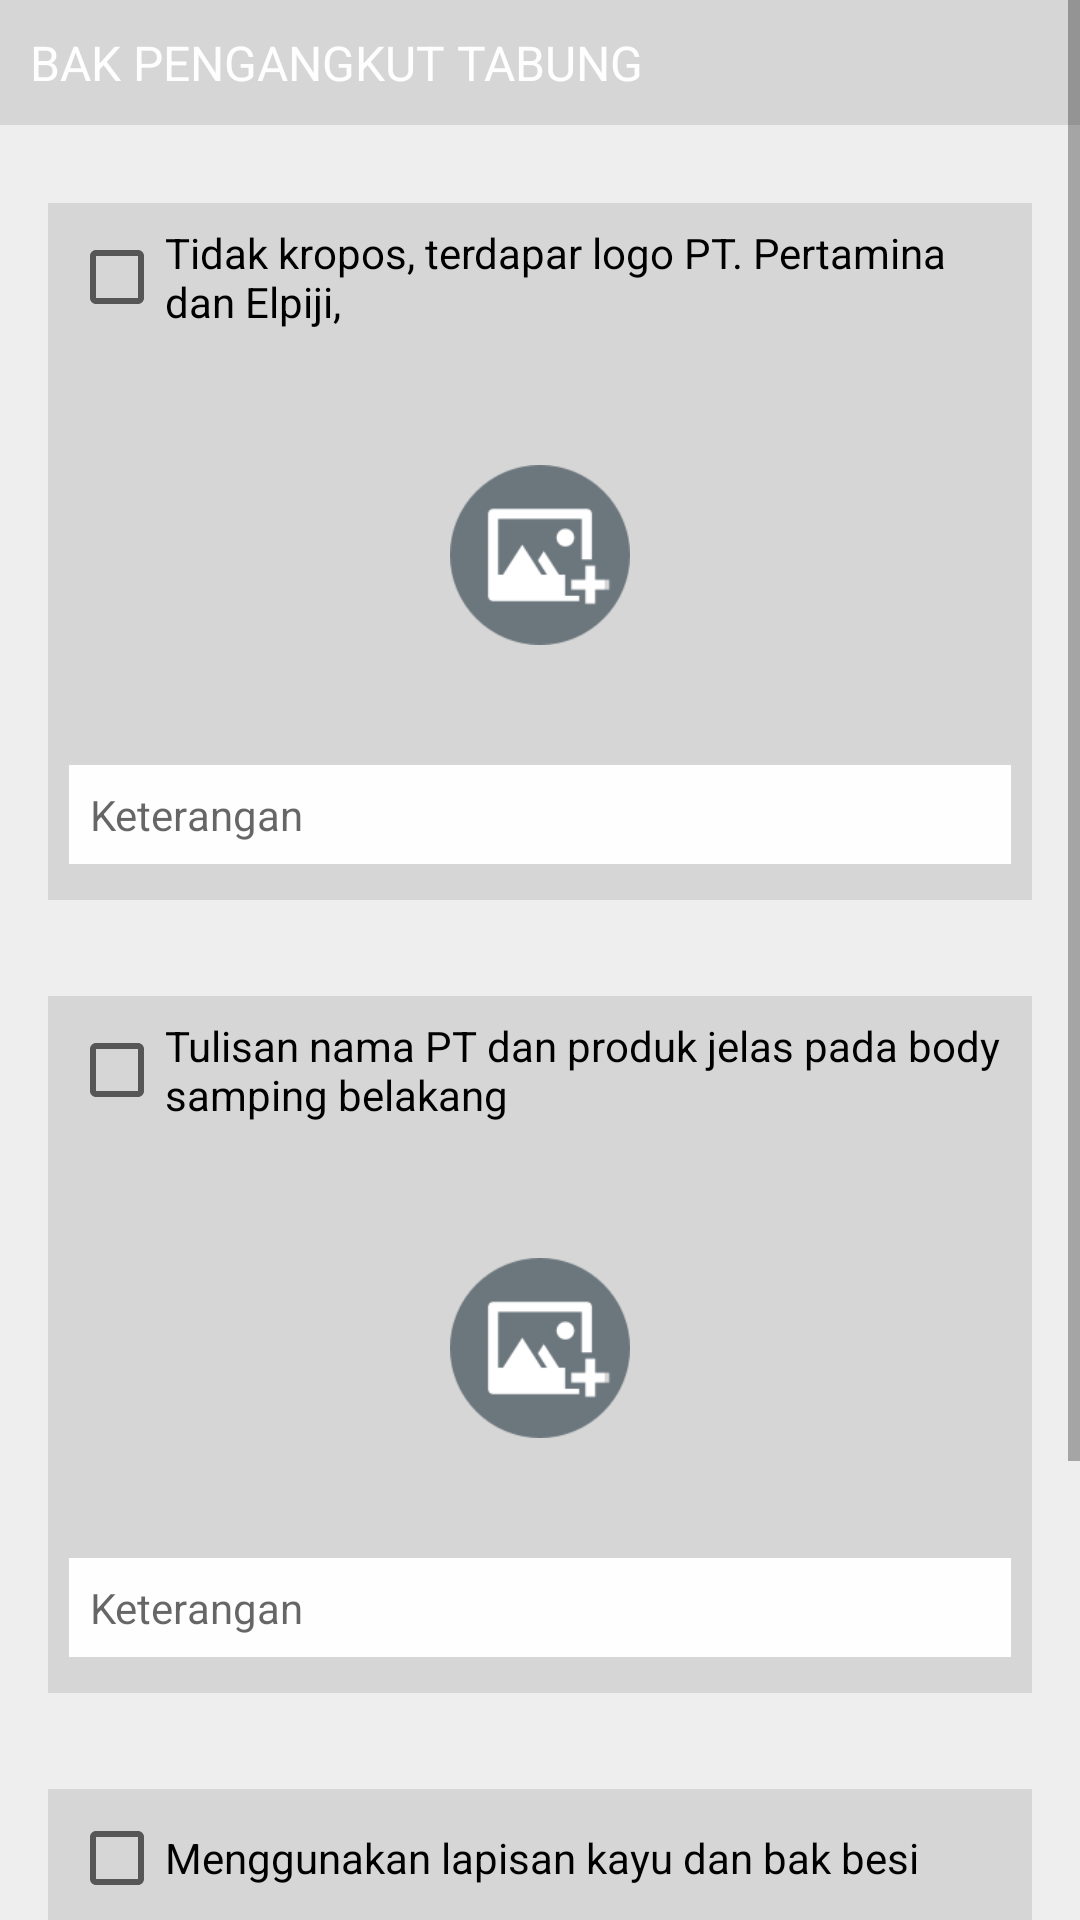

Named icons in this screenshot (1080 × 1920) and their centers, [x,y]:
add: [540,555], [540,1348]
